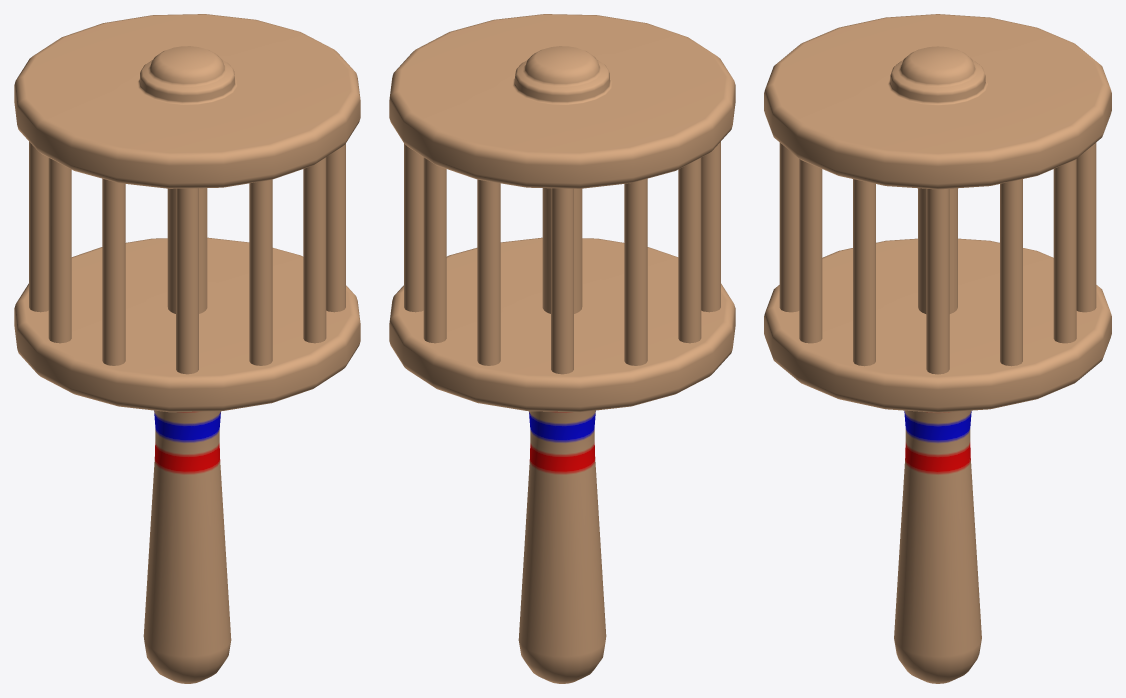
The model's file is woodrattle.fbx.
The picture shows the model from 3 angles, left to right: view 1: azimuth 30°, elevation 25°; view 2: azimuth 150°, elevation 25°; view 3: azimuth 270°, elevation 25°; orthographic projection.
Parts seen in each view (by area): view 1: polySurface5; view 2: polySurface5; view 3: polySurface5.
Part boxes in pixels (x1=…): polySurface5: x1=14, y1=14, x2=360, y2=683; polySurface5: x1=389, y1=14, x2=735, y2=683; polySurface5: x1=764, y1=14, x2=1111, y2=683.
Size of the model in its own units: 9 by 17.82 by 9.
1 material, 1 textured.
